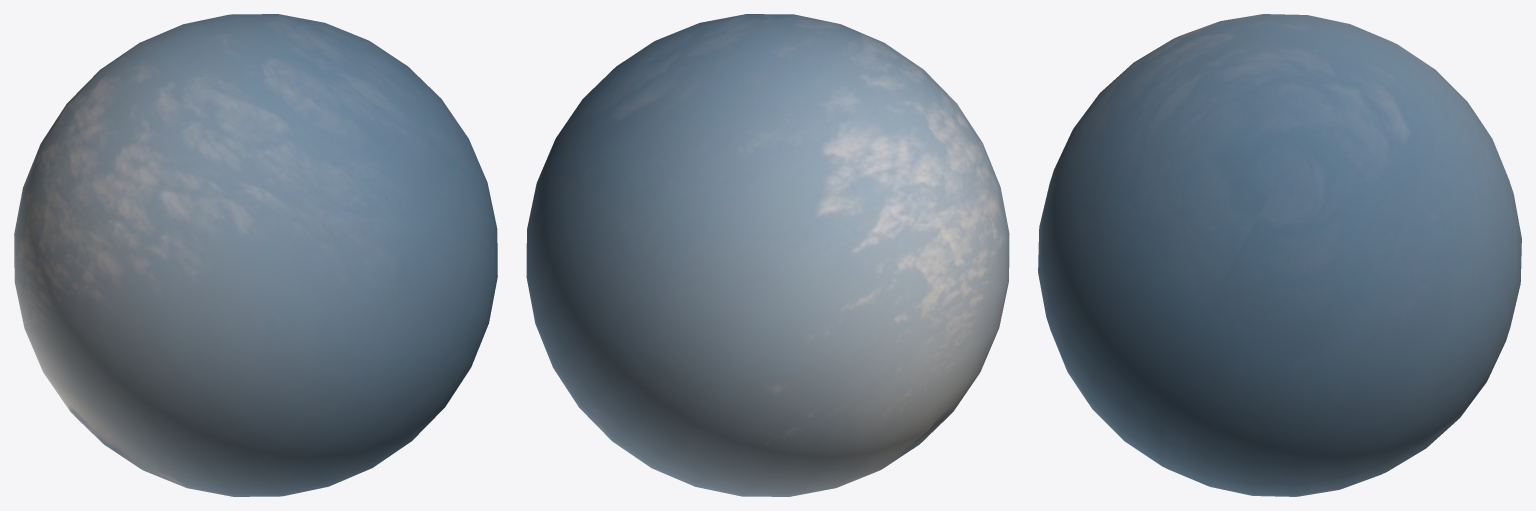
3 renders of one model, left to right at view 1: azimuth 30°, elevation 25°; view 2: azimuth 150°, elevation 25°; view 3: azimuth 270°, elevation 25°, orthographic.
Parts seen in each view (by area): view 1: Object_8; view 2: Object_8; view 3: Object_8.
Boxes of the visible parts, <box> form: Object_8: <box>14,14,497,496</box>; Object_8: <box>526,14,1009,496</box>; Object_8: <box>1038,14,1521,496</box>.
Bounding box in the file's own units: 96.14 × 96.14 × 96.04.
1 material, 1 textured.
